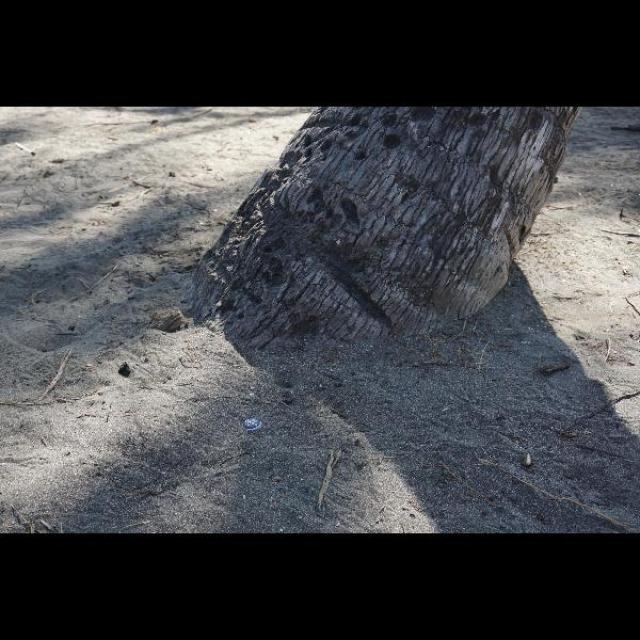dry_waste: (11, 343, 98, 410), (298, 444, 367, 522), (518, 328, 594, 394)
plastic_waste: (230, 401, 276, 450)
